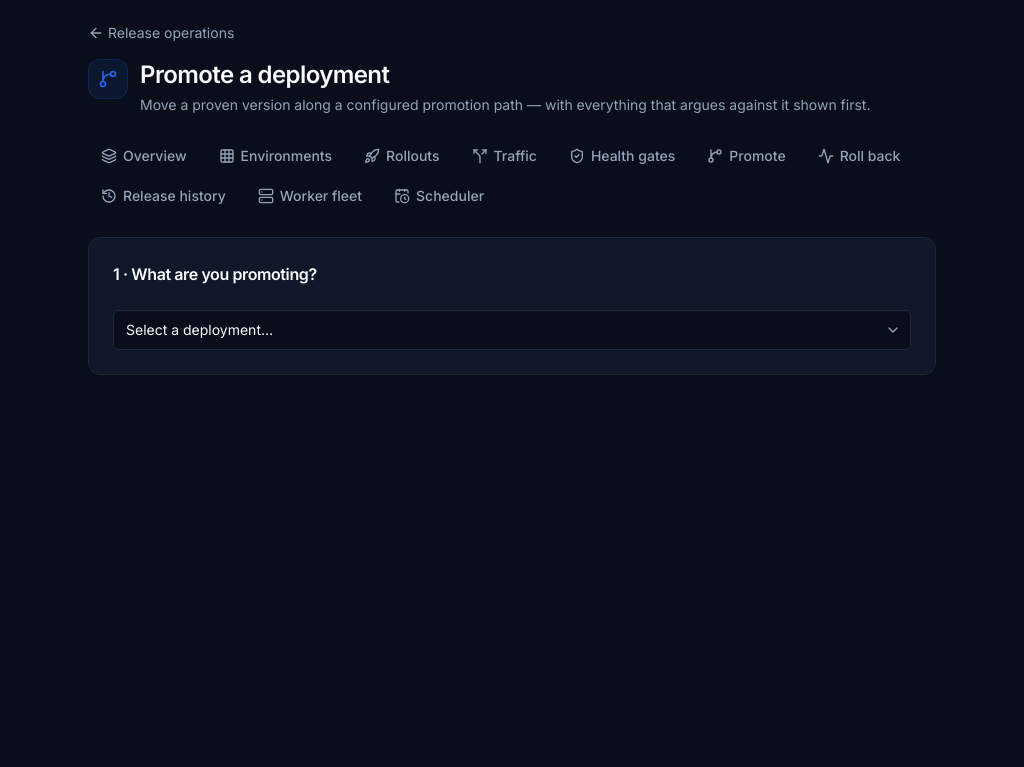
Test: AC-04..06 — traffic, gates and the wizards › promotes only along a configured path, with production type-to-confirm
This screenshot has width=1024, height=767.
Step 1. Select "Risk Scorer — 2.0.0 in STAGING" in the dropdown named "Deployment to promote" → x=512, y=330, box [113,310,911,350]
(page scrolled)
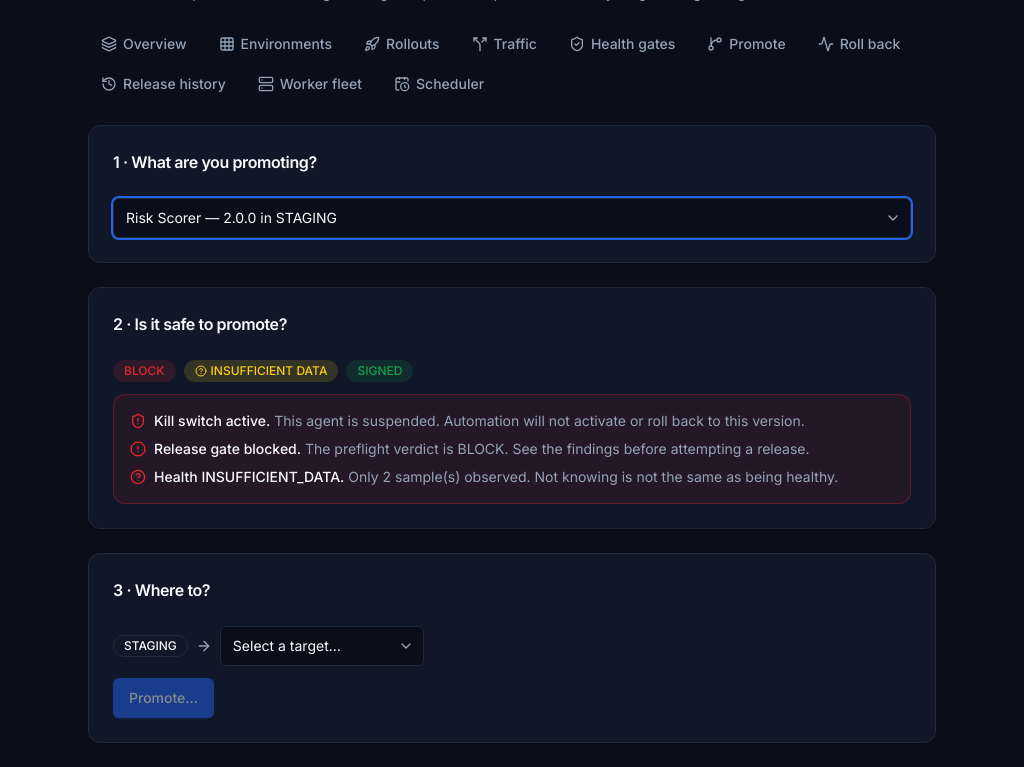
Step 2. Select "Production (production)" in the dropdown named "Target environment" → x=322, y=646, box [220,626,424,666]
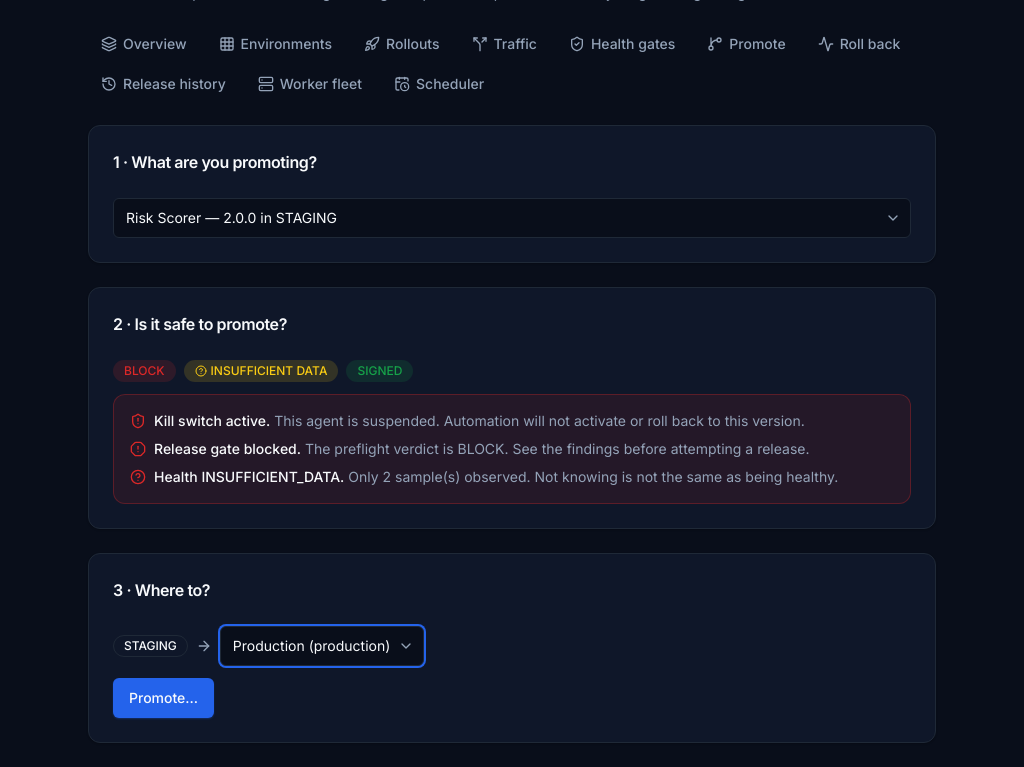
Step 3. Click the button "Promote…" → x=164, y=698, box [113,678,214,718]
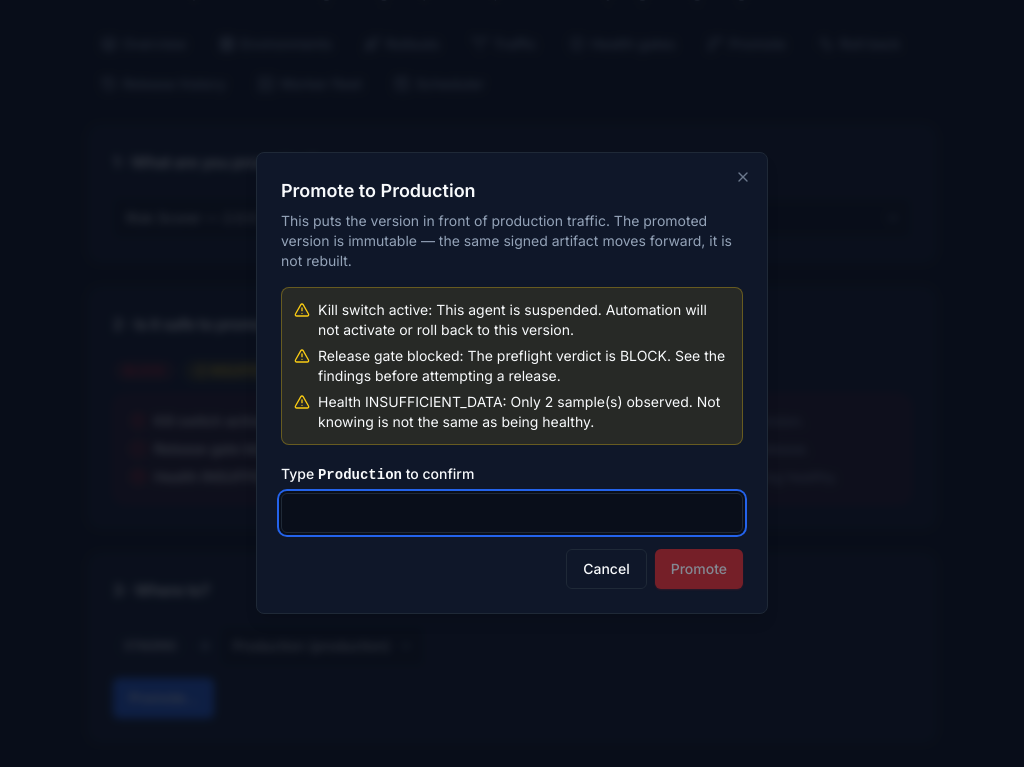
Result: the dialog shows "Kill switch active" at [318,301,707,338]
Result: the dialog shows "Release gate blocked" at [318,347,725,384]
Result: the button "Promote" is disabled at [655,549,743,589]
